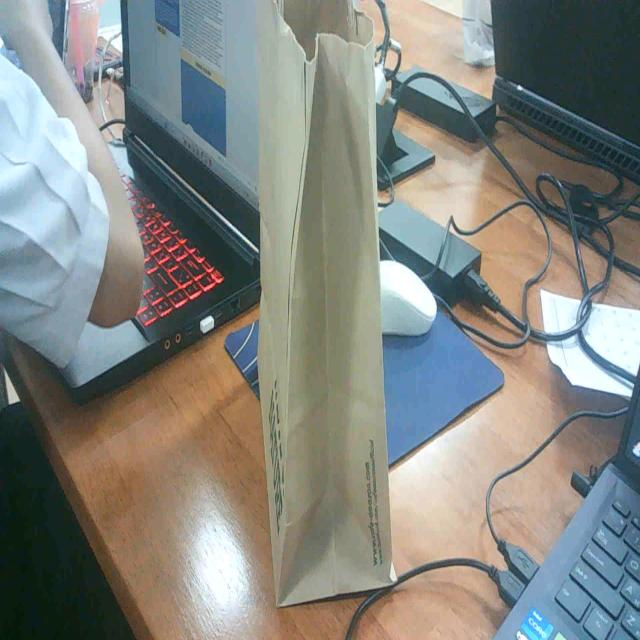bag: (234, 17, 414, 615)
